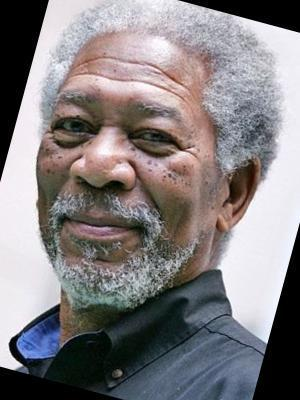Sober: (49, 51, 209, 276)
